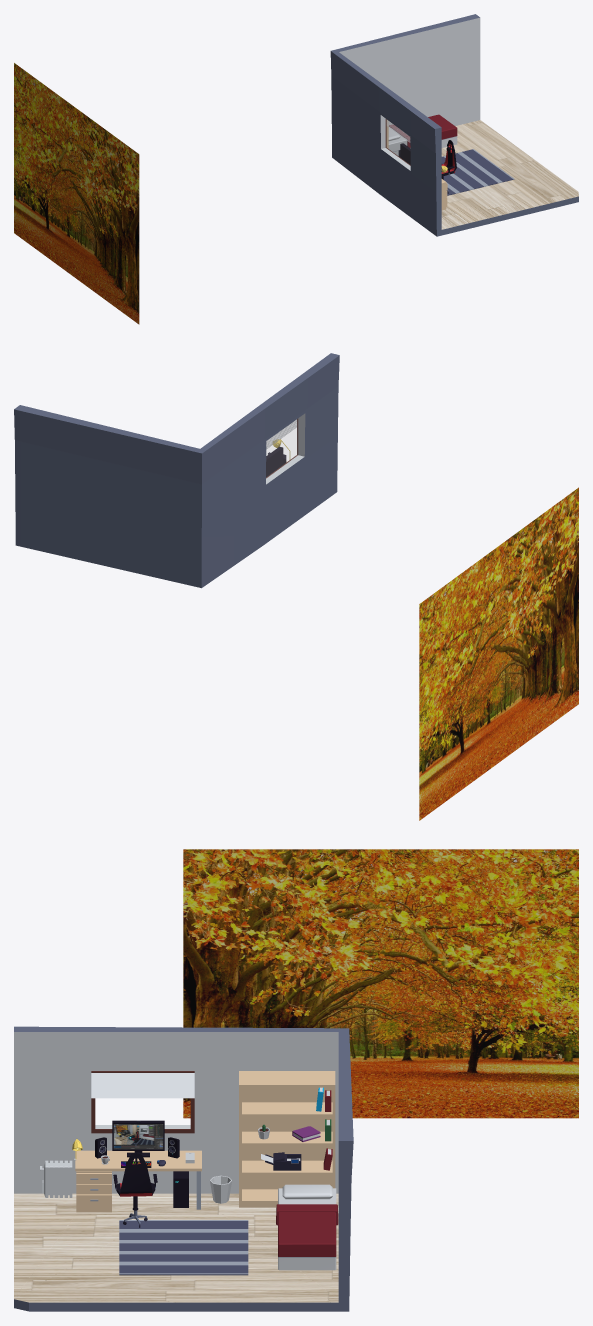
File: low_poly_room_3.glb
3 views of the same model, one above another, from view 1: azimuth 30°, elevation 25°; view 2: azimuth 150°, elevation 25°; view 3: azimuth 270°, elevation 25° (orthographic). The views are drawn at different scales.
Visible parts, largest first — view 1: Wall, Billboard, Floor, Rug, Bed, Glass; view 2: Wall, Billboard, Glass; view 3: Billboard, Wall, Floor, Bookshelf, Rug, Bed, Blinds, Desk, Chair, MonitorScreen, Heater, Books (+2 smaller).
Boxes of the visible parts, x1,y1,x2,y2 form: Wall: (330, 14, 578, 236); Billboard: (14, 63, 139, 324); Floor: (441, 120, 578, 229); Rug: (441, 149, 514, 195); Bed: (388, 114, 457, 154); Glass: (386, 119, 410, 164); Wall: (14, 353, 339, 588); Billboard: (419, 487, 578, 820); Glass: (266, 419, 297, 477); Billboard: (183, 849, 578, 1118); Wall: (14, 1026, 353, 1311); Floor: (14, 1193, 338, 1302); Bookshelf: (239, 1071, 335, 1207); Rug: (119, 1220, 248, 1275); Bed: (276, 1184, 338, 1270); Blinds: (91, 1073, 194, 1098); Desk: (75, 1150, 201, 1212); Chair: (113, 1152, 157, 1227); MonitorScreen: (113, 1124, 163, 1149); Heater: (40, 1160, 72, 1197); Books: (292, 1087, 332, 1170).
Bounding box in the file's own units: 11.02 × 4.75 × 8.76.
11 materials, 5 textured.
